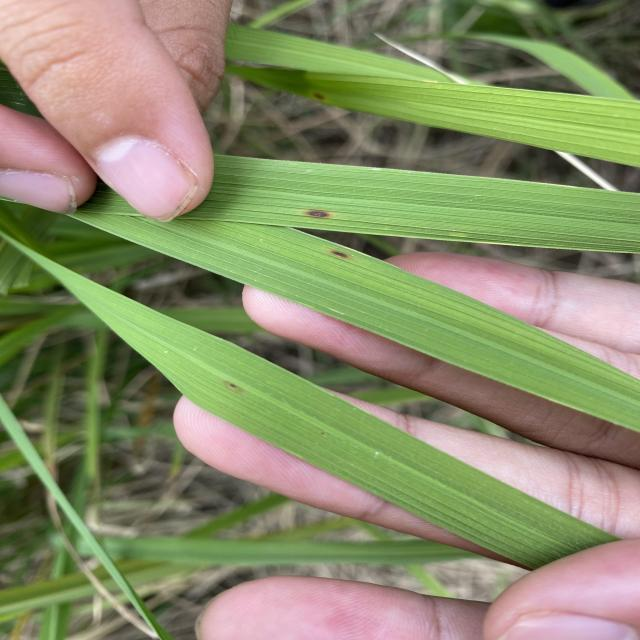Dom nau: (305, 207, 332, 219), (225, 379, 245, 393), (329, 249, 351, 260)
